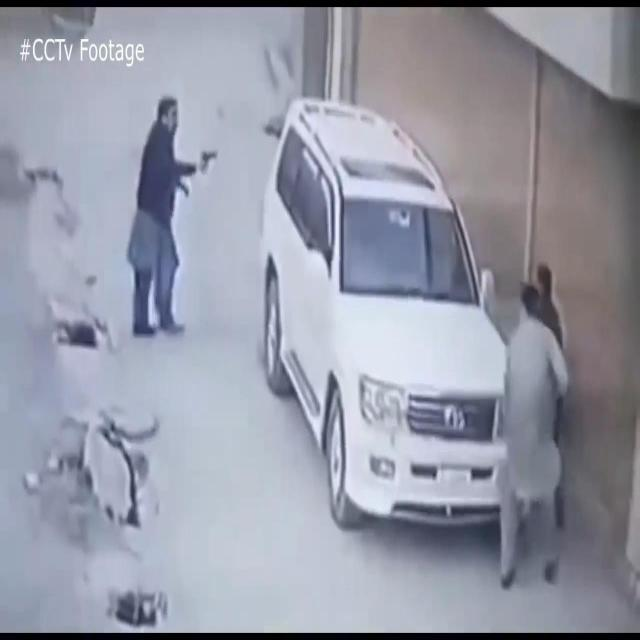pistol: (194, 144, 217, 175)
